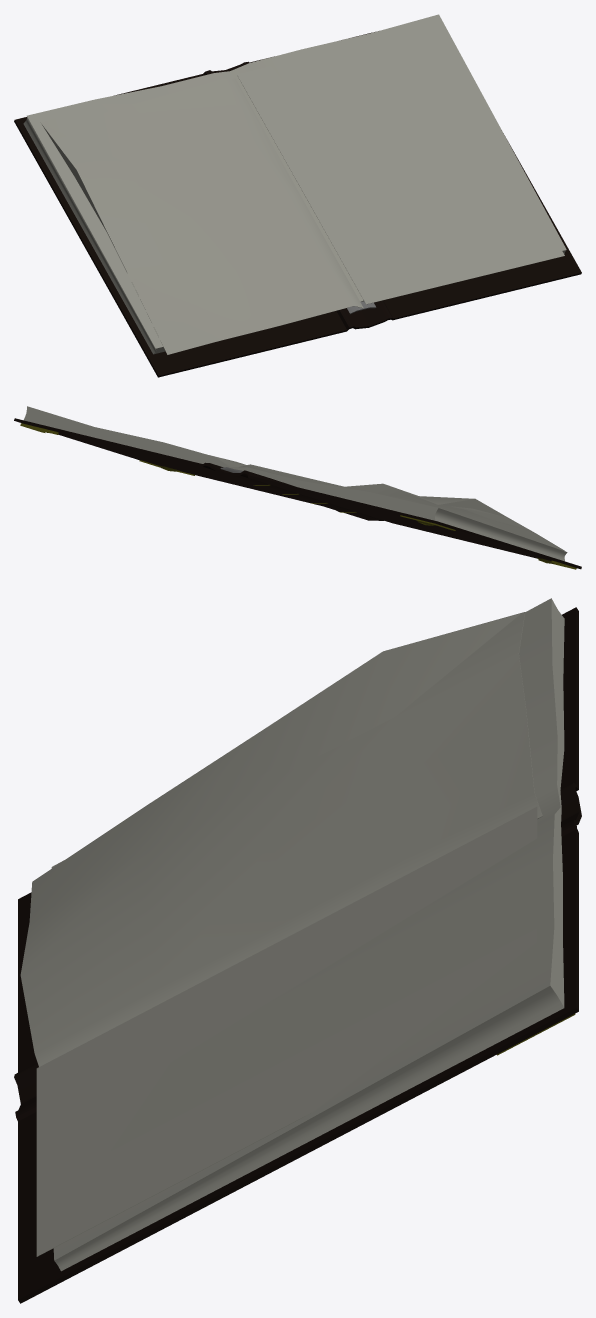
File: uploads_files_2235191_Book_Open.fbx
3 renders of one model, top to bottom at view 1: azimuth 30°, elevation 25°; view 2: azimuth 150°, elevation 25°; view 3: azimuth 270°, elevation 25°, orthographic. The views are drawn at different scales.
Parts seen in each view (by area): view 1: Page_L, Page_R, Page_Block, Cover; view 2: Cover, Page_Block, Page_L; view 3: Page_L, Page_Block, Page_R, Cover.
Boxes of the visible parts, x1=… form: Page_L: x1=41, y1=78, x2=363, y2=354; Page_R: x1=237, y1=39, x2=564, y2=304; Page_Block: x1=23, y1=14, x2=566, y2=354; Cover: x1=14, y1=31, x2=581, y2=377; Cover: x1=14, y1=418, x2=581, y2=569; Page_Block: x1=24, y1=406, x2=567, y2=561; Page_L: x1=238, y1=464, x2=565, y2=551; Page_L: x1=20, y1=612, x2=542, y2=1066; Page_Block: x1=51, y1=598, x2=564, y2=1271; Page_R: x1=36, y1=807, x2=537, y2=1256; Cover: x1=14, y1=607, x2=581, y2=1303.
Size of the model in its own units: 36.73 by 13.7 by 22.02.
